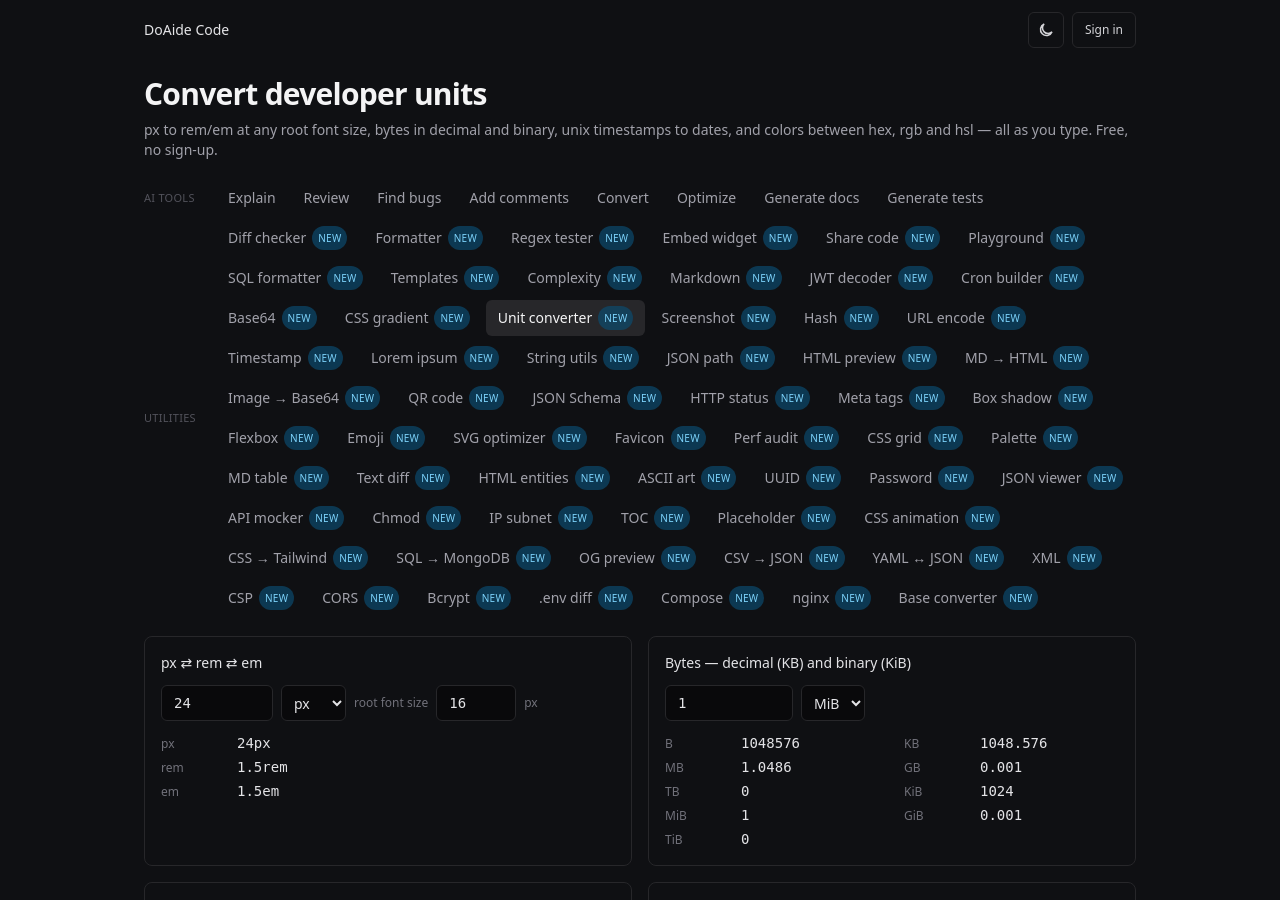
UnitPage › converts between decimal and binary byte units
This screenshot has width=1280, height=900.
Replace the text in the number field with test id "bytes-value" with "2" at (729, 703), box [665, 685, 793, 721]
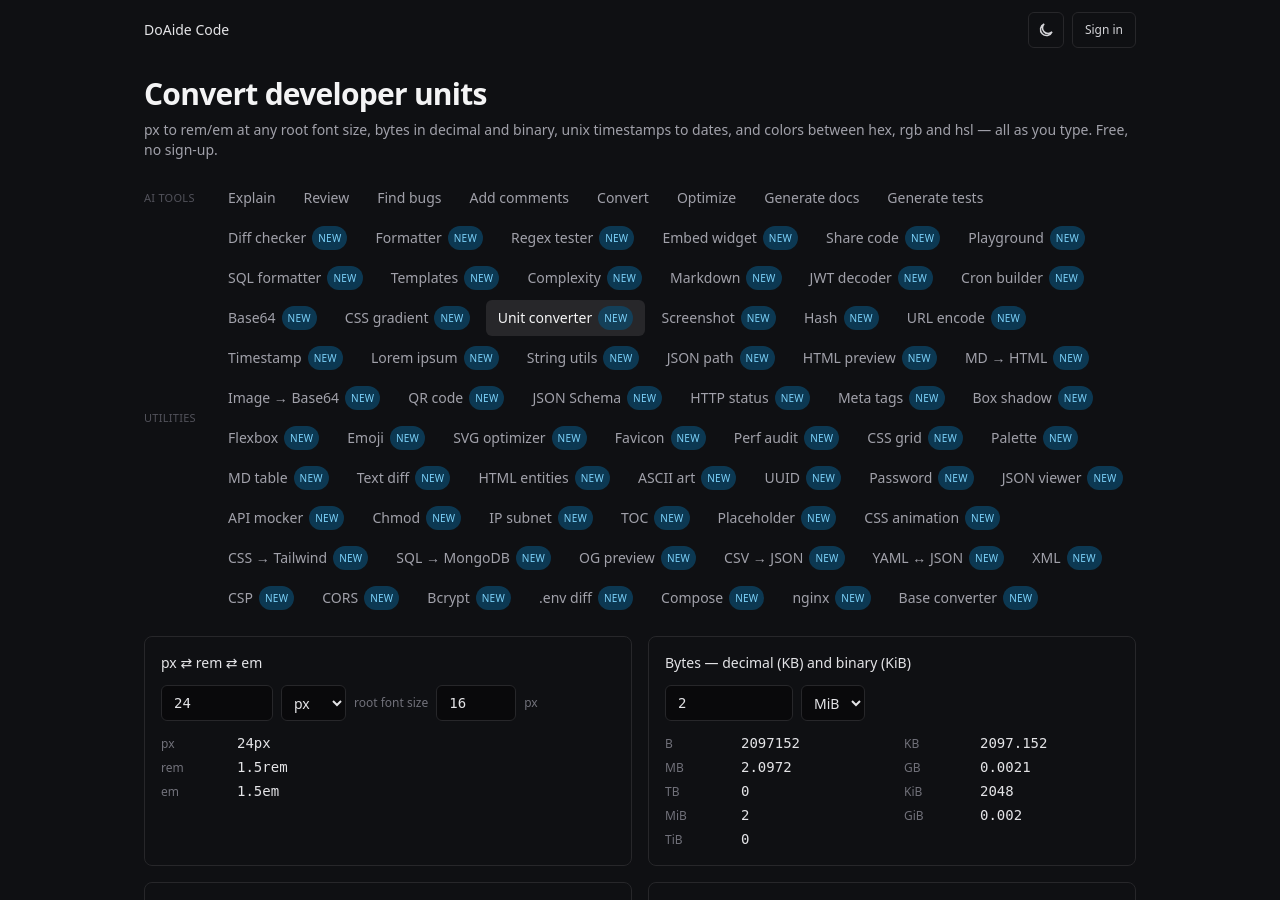
Now the element with test id "bytes-out" shows "2097152", box [741, 735, 800, 751]
